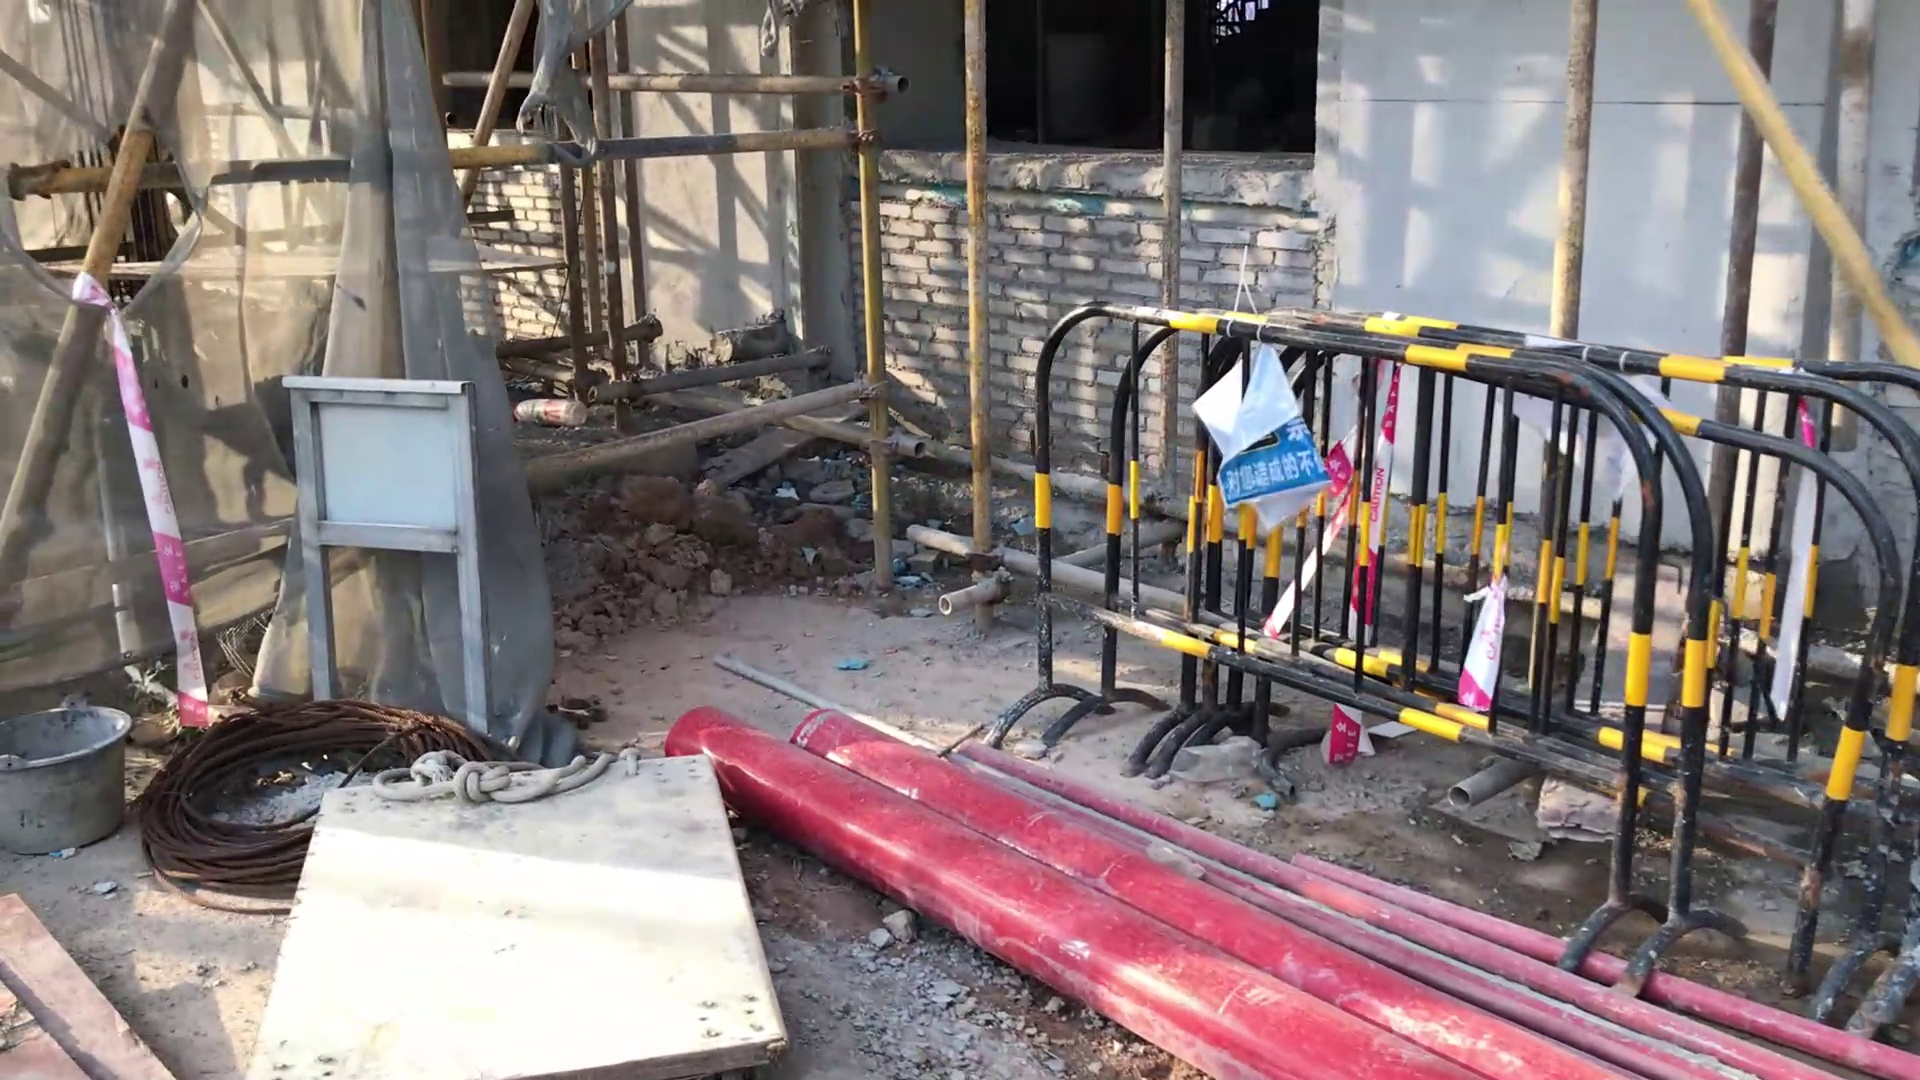fence: (981, 297, 1920, 1035)
